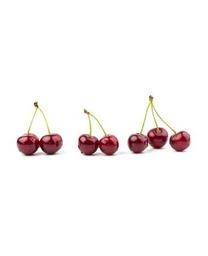cherry: (39, 134, 63, 155), (17, 134, 39, 155), (98, 134, 119, 156), (147, 127, 167, 150), (128, 133, 149, 154), (78, 134, 98, 155), (171, 131, 191, 152)
